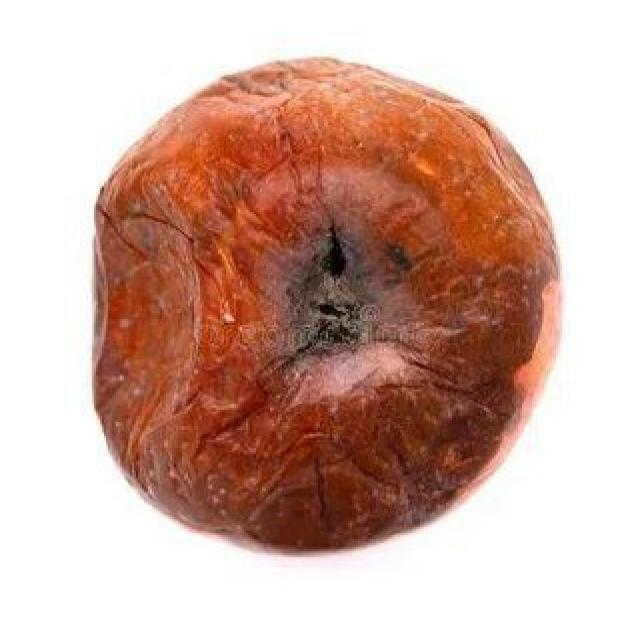Rotten: (110, 69, 563, 548)
